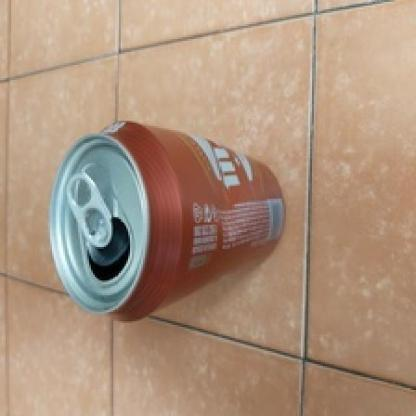Can: (54, 121, 288, 323)
